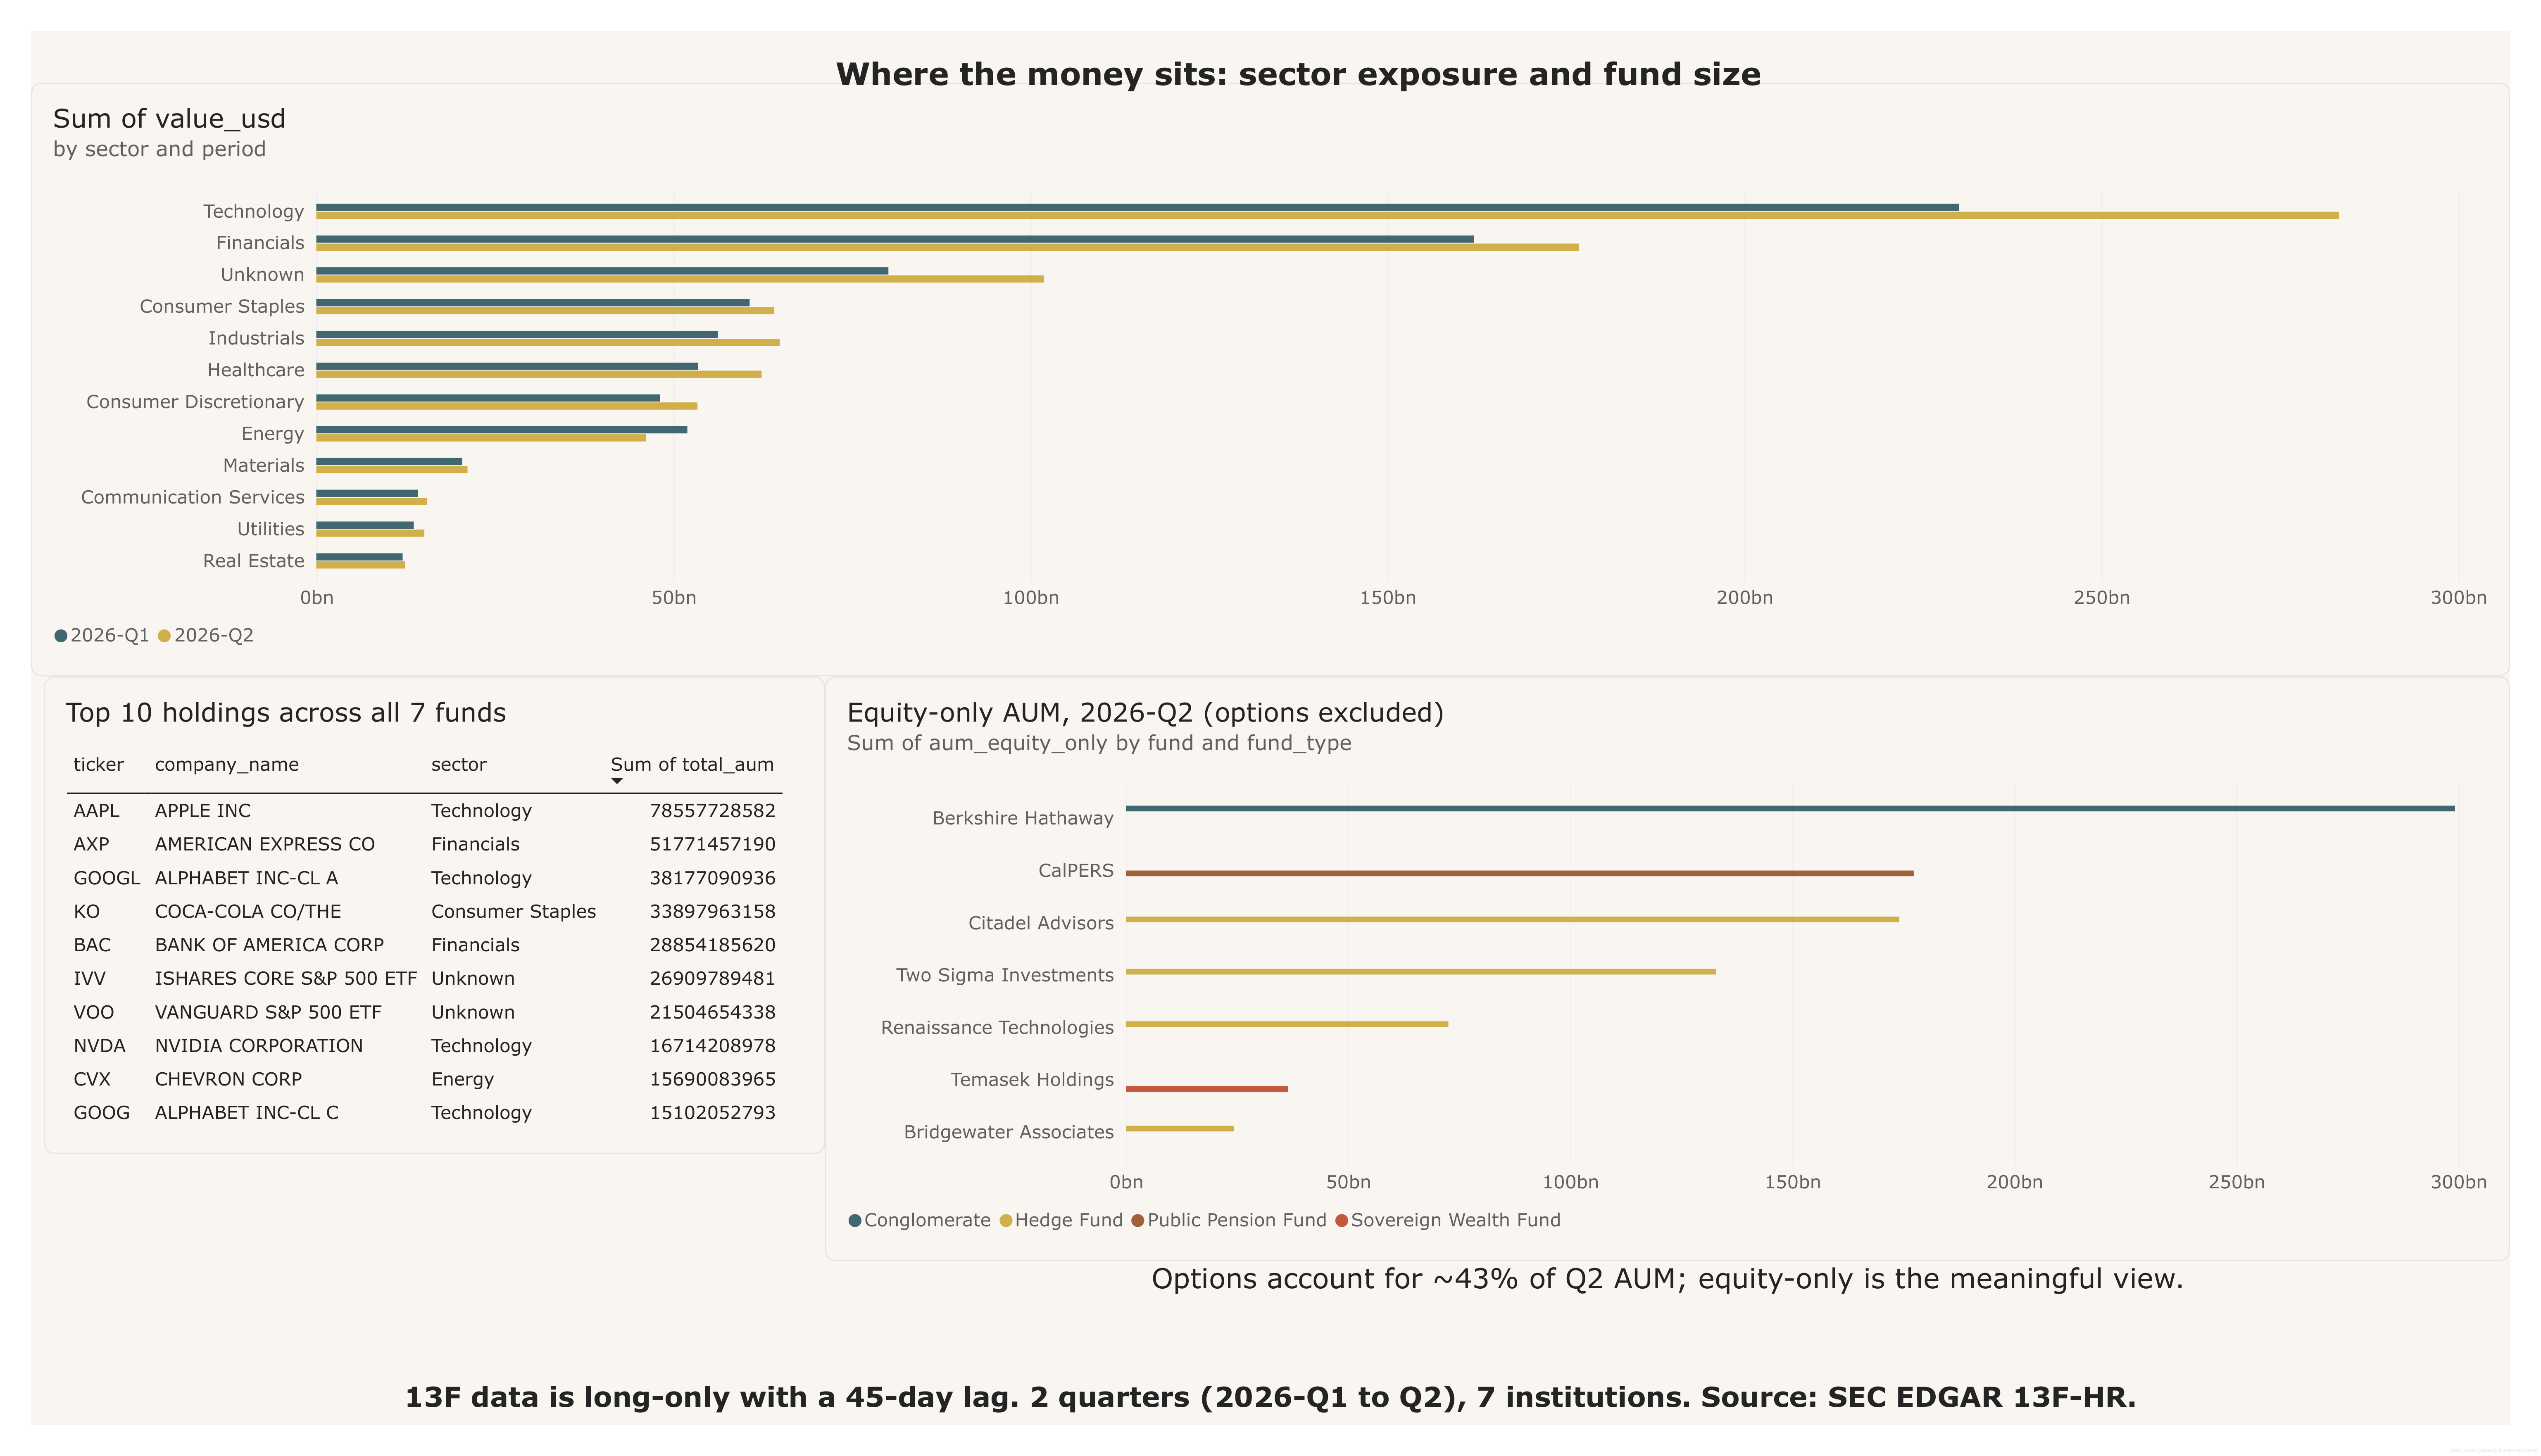

The dashboard page shown, as its layout file describes it:
{"tool":"powerbi","page":{"name":"Page 3","canvas":[1920,1080],"ordinal":2},"visuals":[{"type":"clusteredBarChart","fields":{"Category":["sector_by_period.sector"],"Series":["sector_by_period.period"],"Y":["Sum(sector_by_period.value_usd)"]},"box":[0,40,1920,460],"z":0},{"type":"tableEx","title":"Top 10 holdings across all 7 funds","fields":{"Values":["top_holdings.ticker","top_holdings.company_name","top_holdings.sector","Sum(top_holdings.total_aum)"]},"box":[10,500,605,370],"z":1000},{"type":"clusteredBarChart","title":"Equity-only AUM, 2026-Q2 (options excluded)","fields":{"Category":["fund_aum.fund"],"Series":["fund_aum.fund_type"],"Y":["Sum(fund_aum.aum_equity_only)"]},"box":[615,500,1305,452.5],"z":2000},{"type":"textbox","box":[797.5,952.5,940.7,37],"z":3000},{"type":"textbox","box":[175,17.5,1612.5,45],"z":4000},{"type":"textbox","box":[0,1045,1920,35],"z":5000}]}

Visuals, with their boxes on the page's 1920x1080 design canvas (x1, y1, x2, y2). These are canvas units, not pixel positions in the 2541x1456 screenshot, which may show the page scaled, cropped or inside an application window:
clusteredBarChart - sector_by_period.sector x sector_by_period.period: <bbox>0, 40, 1920, 500</bbox>
"Top 10 holdings across all 7 funds" tableEx: <bbox>10, 500, 615, 870</bbox>
"Equity-only AUM, 2026-Q2 (options excluded)" clusteredBarChart: <bbox>615, 500, 1920, 952</bbox>
textbox: <bbox>798, 952, 1738, 990</bbox>
textbox: <bbox>175, 18, 1788, 62</bbox>
textbox: <bbox>0, 1045, 1920, 1080</bbox>
